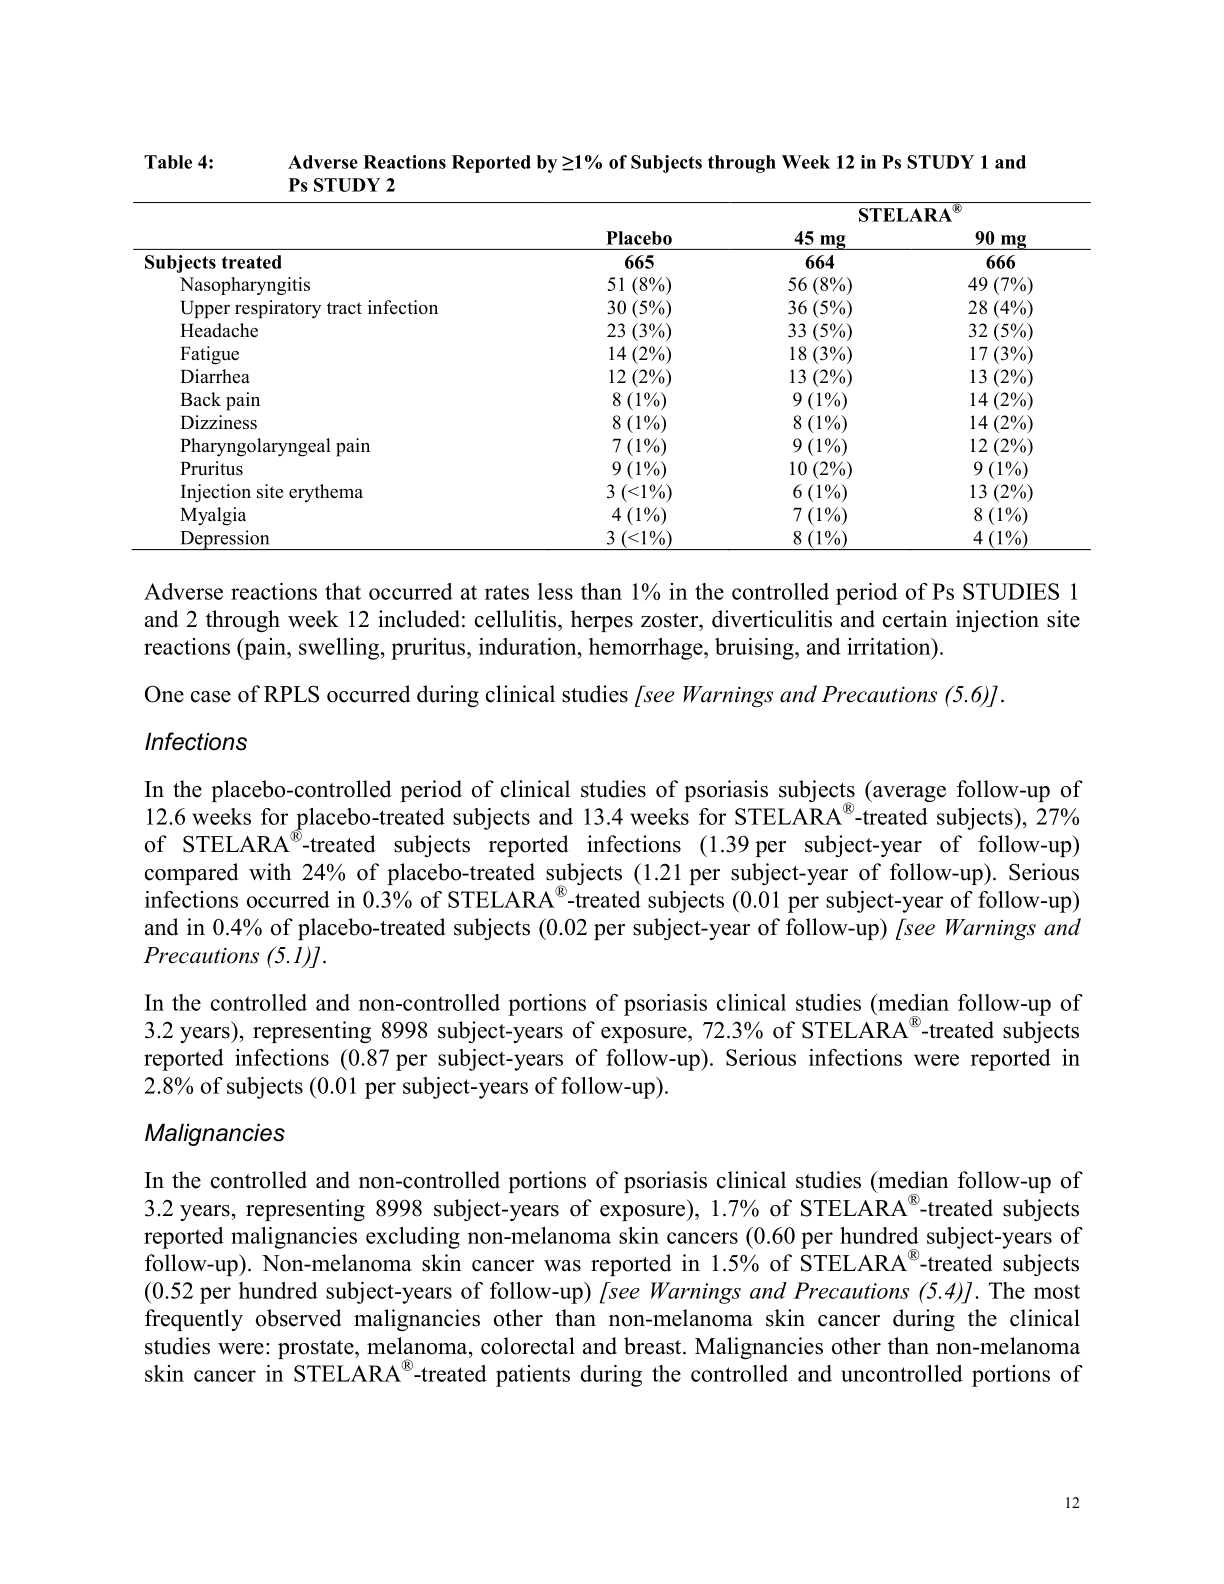partial_lined_merged_cells: (130, 199, 1093, 554)
